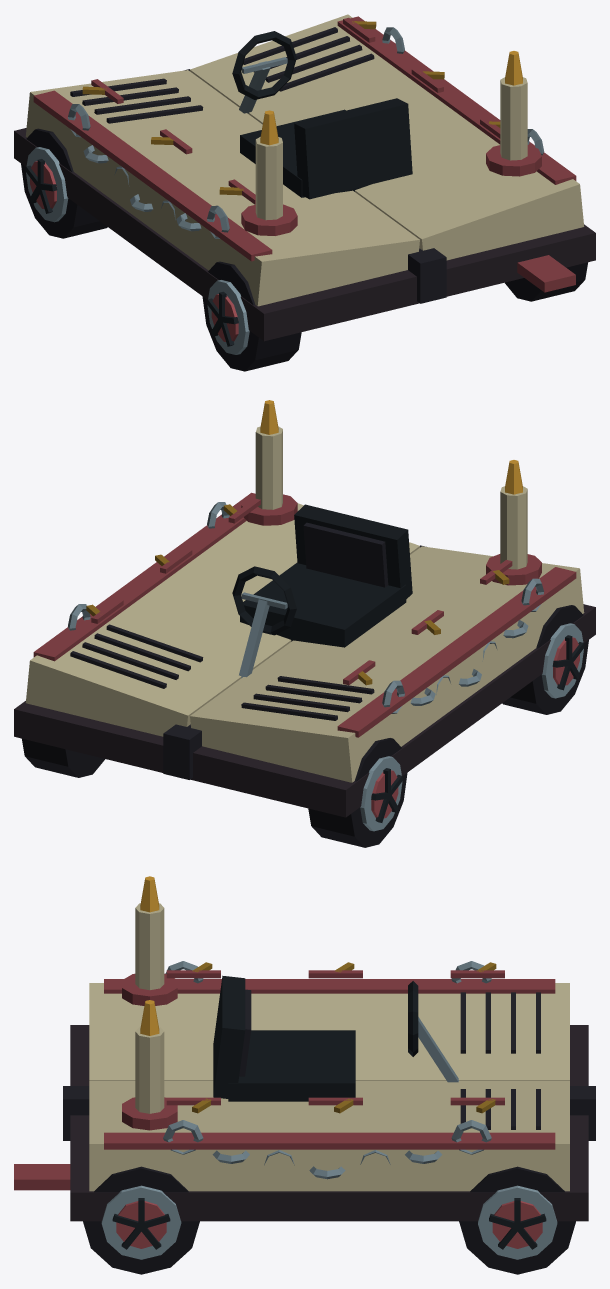
File: kart.glb
The picture shows the model from 3 angles, top to bottom: view 1: azimuth 30°, elevation 25°; view 2: azimuth 150°, elevation 25°; view 3: azimuth 270°, elevation 25°; orthographic projection. The views are drawn at different scales.
Visible parts, largest first — view 1: identity-book-book-open-pages-and-spine, identity-book-driver-cockpit, identity-book-motif-candles, wheel-rear-left, wheel-front-left, identity-book-motif-runes, identity-book-motif-chains, wheel-rear-right; view 2: identity-book-book-open-pages-and-spine, identity-book-driver-cockpit, identity-book-motif-candles, wheel-front-left, wheel-rear-left, identity-book-motif-runes, identity-book-motif-chains, wheel-front-right; view 3: identity-book-book-open-pages-and-spine, identity-book-driver-cockpit, wheel-rear-right, wheel-front-right, identity-book-motif-candles, identity-book-motif-runes, identity-book-motif-chains.
Boxes of the visible parts, box(x1,y1,x2,y2) form: identity-book-book-open-pages-and-spine: box(14, 14, 595, 341); identity-book-driver-cockpit: box(232, 31, 412, 199); identity-book-motif-candles: box(241, 51, 541, 235); wheel-rear-left: box(202, 261, 301, 371); wheel-front-left: box(21, 128, 107, 238); identity-book-motif-runes: box(82, 17, 500, 204); identity-book-motif-chains: box(68, 27, 544, 238); wheel-rear-right: box(505, 262, 587, 301); identity-book-book-open-pages-and-spine: box(14, 492, 595, 817); identity-book-driver-cockpit: box(232, 504, 412, 678); identity-book-motif-candles: box(241, 400, 541, 585); wheel-front-left: box(308, 738, 407, 847); wheel-rear-left: box(502, 605, 588, 714); identity-book-motif-runes: box(86, 498, 512, 685); identity-book-motif-chains: box(68, 502, 543, 713); wheel-front-right: box(22, 738, 105, 777); identity-book-book-open-pages-and-spine: box(14, 979, 595, 1221); identity-book-driver-cockpit: box(213, 975, 458, 1101); wheel-rear-right: box(83, 1166, 199, 1274); wheel-front-right: box(459, 1166, 575, 1274); identity-book-motif-candles: box(122, 876, 177, 1130); identity-book-motif-runes: box(166, 962, 504, 1113); identity-book-motif-chains: box(163, 961, 491, 1179).
Size of the model in its own units: 2.01 by 1.33 by 2.78.
